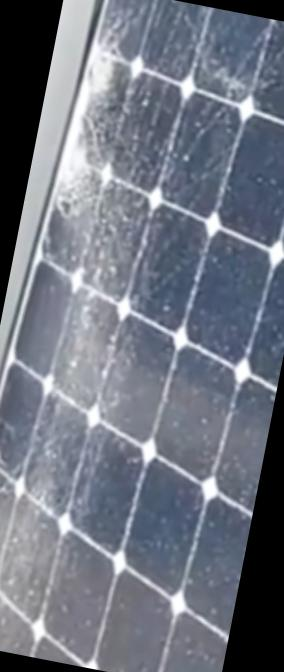Crack: (50, 37, 143, 222), (0, 438, 16, 577)
